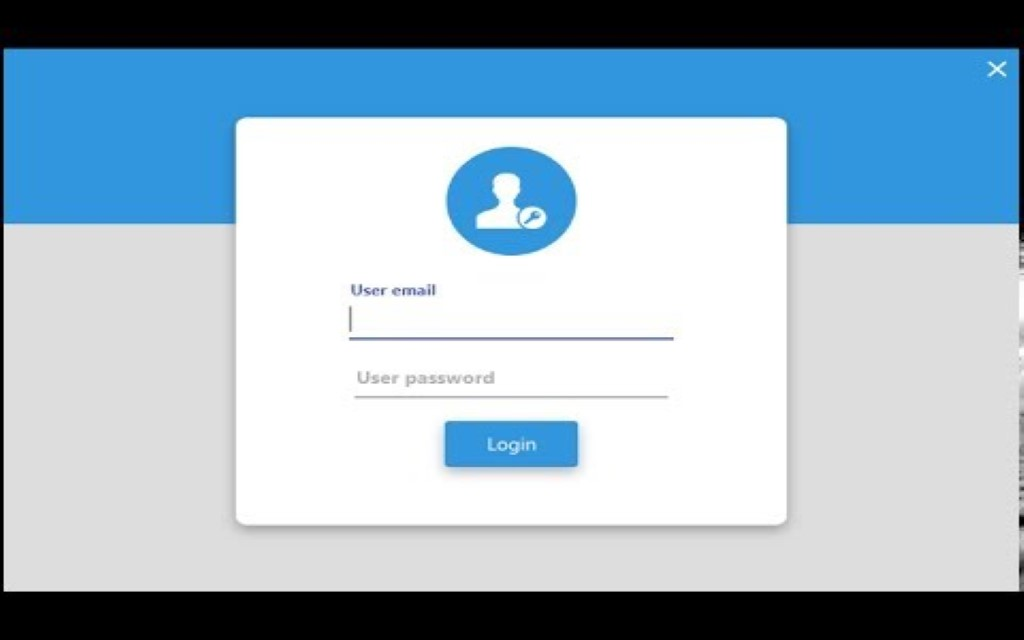button: (447, 421, 578, 466)
button_login: (447, 420, 579, 470)
label_Login: (483, 432, 539, 456)
label_email: (349, 277, 439, 302)
label_password: (355, 364, 505, 389)
textbox: (352, 357, 665, 396), (350, 307, 664, 337)
